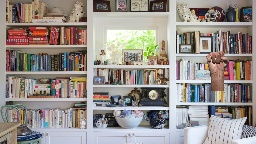Pugno: (204, 49, 230, 74)
